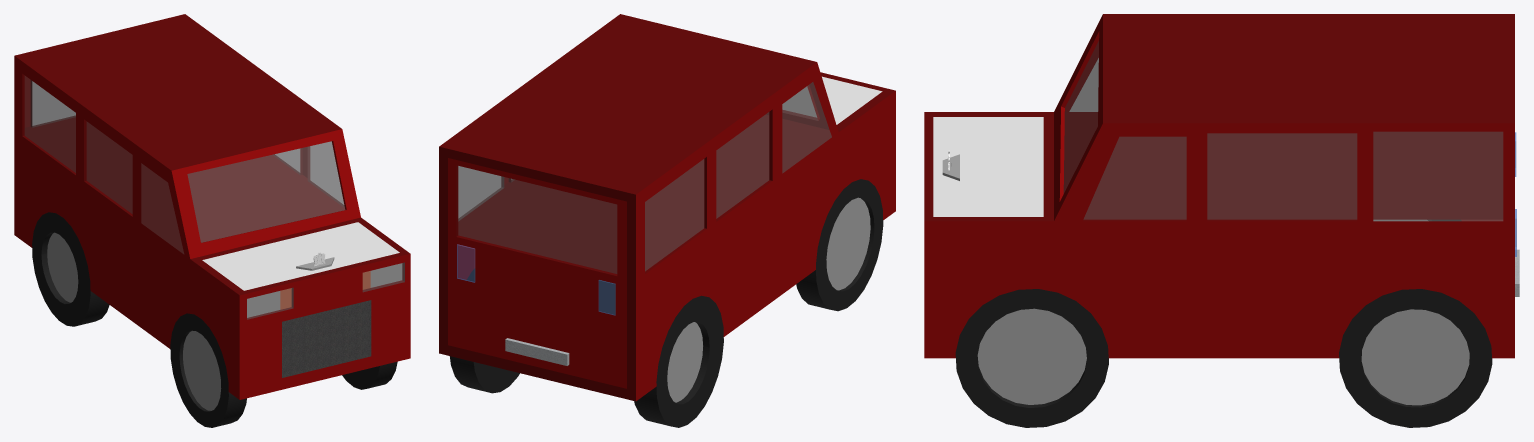
File: jip.obj
3 renders of one model, left to right at view 1: azimuth 30°, elevation 25°; view 2: azimuth 150°, elevation 25°; view 3: azimuth 270°, elevation 25°, orthographic. The views are drawn at different scales.
Visible parts, largest first — view 1: Mesh35 Model; view 2: Mesh35 Model; view 3: Mesh35 Model.
Part boxes in pixels (bbox=[...]): Mesh35 Model: bbox=[14, 14, 410, 427]; Mesh35 Model: bbox=[439, 14, 895, 427]; Mesh35 Model: bbox=[924, 14, 1519, 427].
Size of what is drawn, in the model's own units: 157 by 204 by 361.
13 materials, 2 textured.
